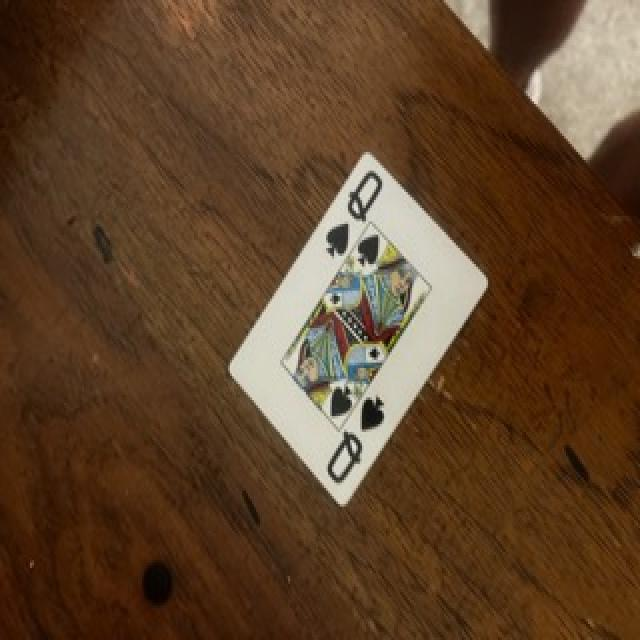Queen of spades: (230, 153, 488, 505)
